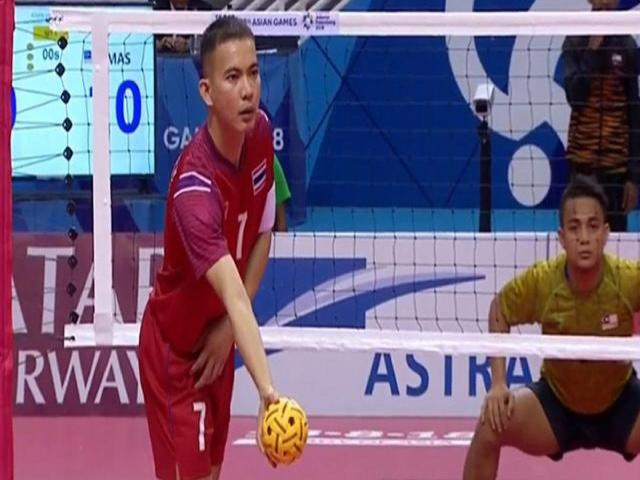round ball: (260, 394, 310, 466)
